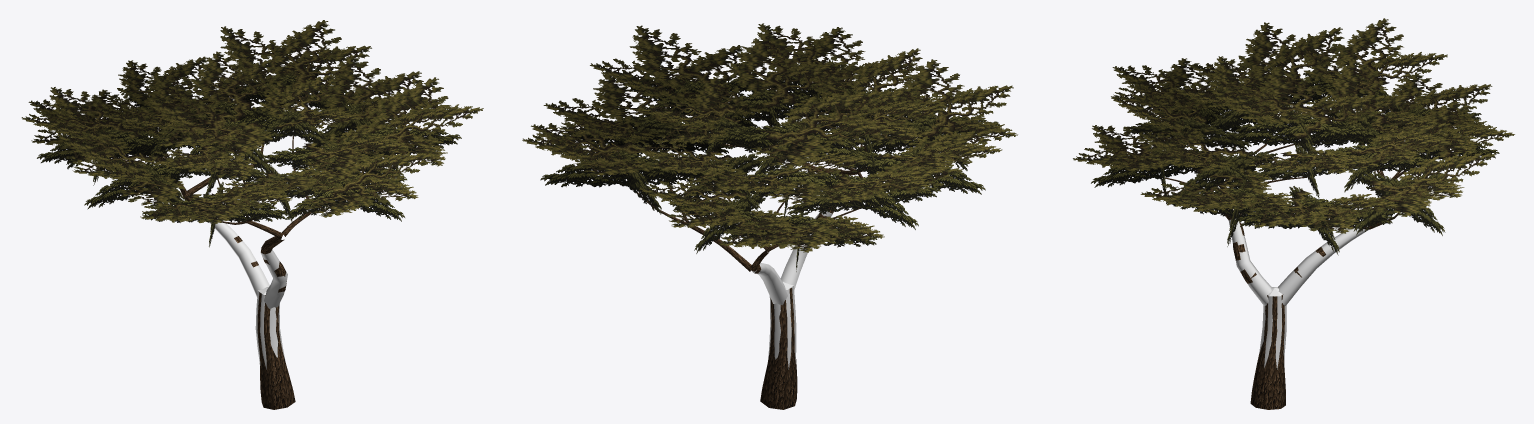
Rendered from Acacia-04-Jovem.glb.
3 views of the same model, side by side, from view 1: azimuth 30°, elevation 25°; view 2: azimuth 150°, elevation 25°; view 3: azimuth 270°, elevation 25° (orthographic). The views are drawn at different scales.
Parts seen in each view (by area): view 1: Acacia-04-Jovem, Acacia-04-Jovem_COL; view 2: Acacia-04-Jovem, Acacia-04-Jovem_COL; view 3: Acacia-04-Jovem, Acacia-04-Jovem_COL.
Part boxes in pixels (x1=…): Acacia-04-Jovem: x1=21, y1=20, x2=483, y2=409; Acacia-04-Jovem_COL: x1=209, y1=218, x2=287, y2=369; Acacia-04-Jovem: x1=522, y1=23, x2=1017, y2=409; Acacia-04-Jovem_COL: x1=752, y1=211, x2=833, y2=369; Acacia-04-Jovem: x1=1073, y1=18, x2=1514, y2=409; Acacia-04-Jovem_COL: x1=1228, y1=219, x2=1368, y2=369.
Size of what is drawn, in the model's own units: 7.43 by 5.17 by 7.37.
3 materials, 3 textured.
